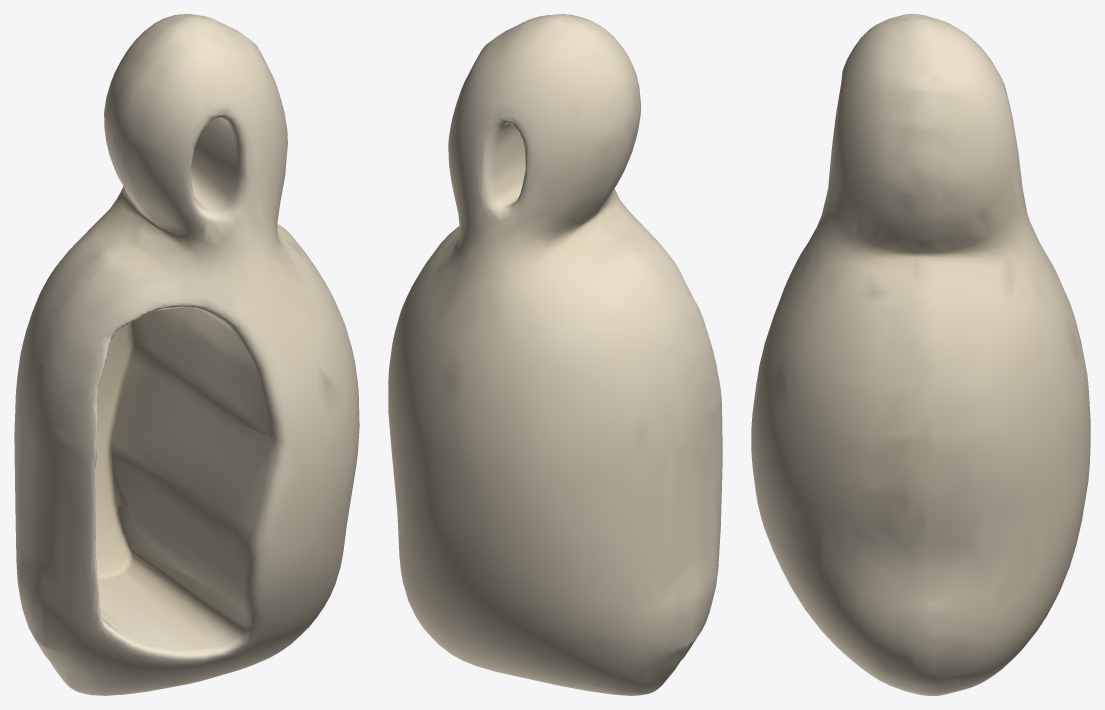
The model's file is bishop-white.glb.
The picture shows the model from 3 angles, left to right: view 1: azimuth 30°, elevation 25°; view 2: azimuth 150°, elevation 25°; view 3: azimuth 270°, elevation 25°; orthographic projection.
Visible parts, largest first — view 1: Lumen strelec bila; view 2: Lumen strelec bila; view 3: Lumen strelec bila.
Boxes of the visible parts, left/top/right/bottom form: Lumen strelec bila: left=14, top=14, right=359, bottom=695; Lumen strelec bila: left=388, top=14, right=722, bottom=695; Lumen strelec bila: left=751, top=14, right=1090, bottom=695.
Bounding box in the file's own units: 0.5682 × 1.19 × 0.5706.
